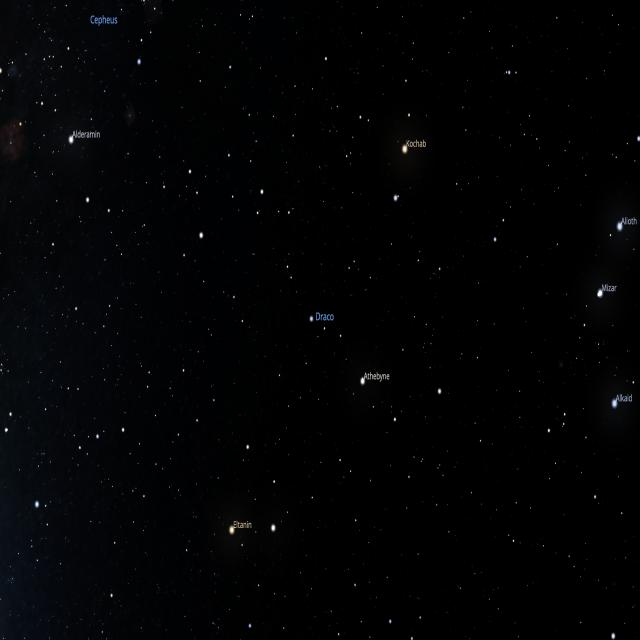Draco: (227, 0, 551, 541)
